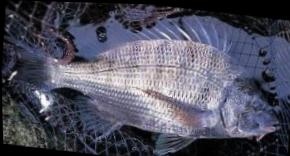fish: (4, 15, 281, 154)
